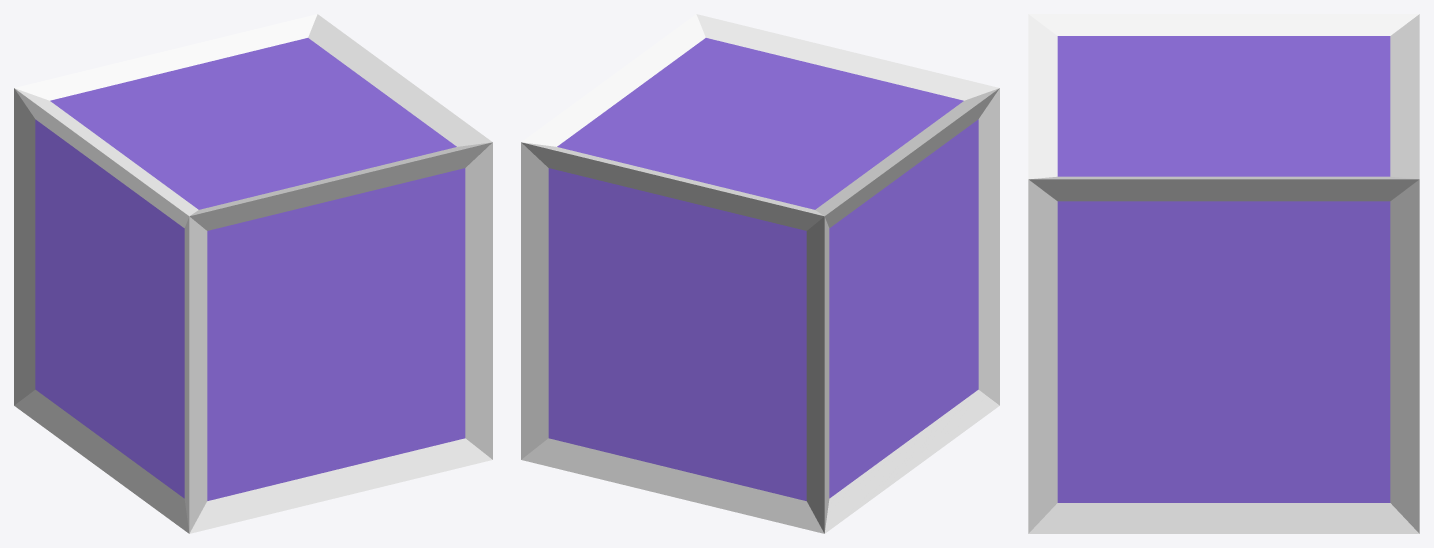
File: NeonBlockWall.fbx
3 renders of one model, left to right at view 1: azimuth 30°, elevation 25°; view 2: azimuth 150°, elevation 25°; view 3: azimuth 270°, elevation 25°, orthographic. The views are drawn at different scales.
Visible parts, largest first — view 1: Cube; view 2: Cube; view 3: Cube.
Boxes of the visible parts, x1=… form: Cube: x1=14, y1=14, x2=492, y2=533; Cube: x1=521, y1=14, x2=999, y2=533; Cube: x1=1028, y1=14, x2=1419, y2=533.
Bounding box in the file's own units: 212 × 212 × 212.
